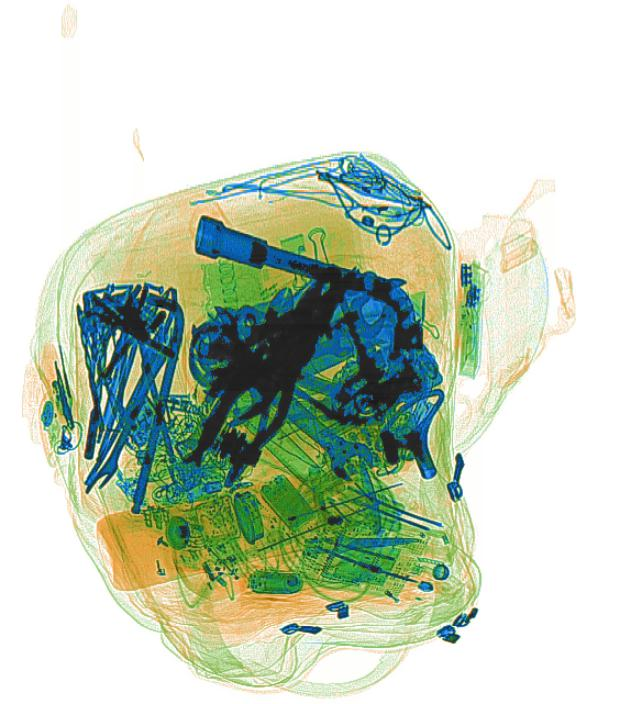battery: (250, 568, 305, 595)
lighter: (37, 338, 74, 416)
scissors: (288, 506, 422, 578)
